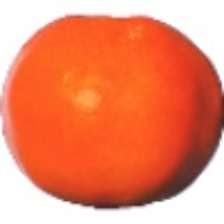tangerine: (29, 24, 224, 220)
